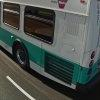Bus: (2, 1, 97, 86)
